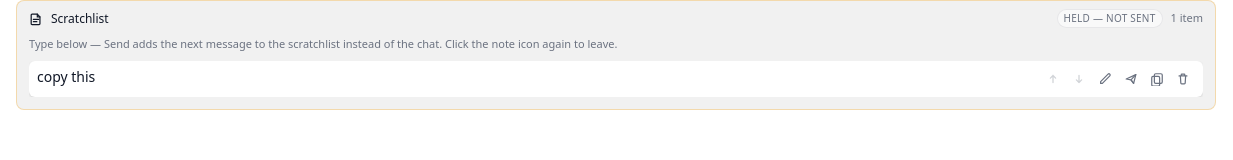
Test: ScratchlistDrawer copy-to-clipboard action › writes the entry text to the clipboard and flips the button label to "Copied!" briefly
What coordinates should you click on to do the following:
click the button named "Copy to clipboard"
I would click on:
 (1157, 79)
Its box is [1145, 67, 1169, 91].
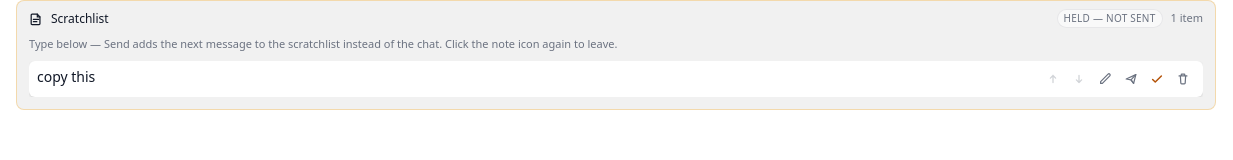
Check: the button named "Copied!" is shown, box [1145, 67, 1169, 91]
